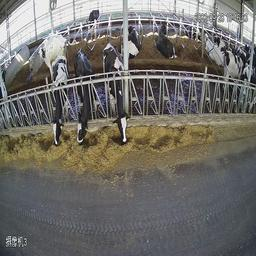cow: (102, 43, 128, 148), (74, 49, 93, 147), (48, 54, 67, 148), (34, 39, 72, 69), (154, 18, 178, 59), (224, 50, 245, 85), (204, 31, 223, 69), (127, 24, 143, 59), (84, 5, 100, 31), (185, 23, 202, 45), (213, 27, 226, 50)
